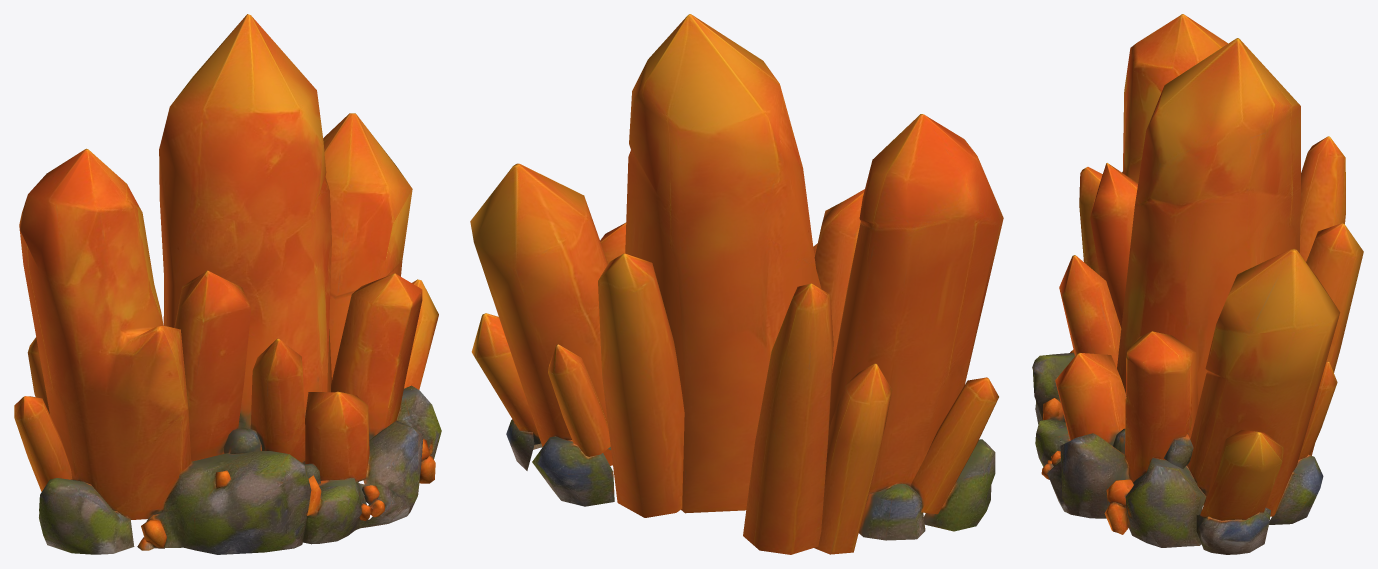
Rendered from orange_crystal.glb.
3 views of the same model, side by side, from view 1: azimuth 30°, elevation 25°; view 2: azimuth 150°, elevation 25°; view 3: azimuth 270°, elevation 25° (orthographic). The views are drawn at different scales.
Visible parts, largest first — view 1: tripo_node_8a0ff142-271c-4a10-8316-48bf7cc18a92; view 2: tripo_node_8a0ff142-271c-4a10-8316-48bf7cc18a92; view 3: tripo_node_8a0ff142-271c-4a10-8316-48bf7cc18a92.
Boxes of the visible parts, x1,y1,x2,y2 form: tripo_node_8a0ff142-271c-4a10-8316-48bf7cc18a92: (14, 14, 441, 554); tripo_node_8a0ff142-271c-4a10-8316-48bf7cc18a92: (470, 14, 1003, 554); tripo_node_8a0ff142-271c-4a10-8316-48bf7cc18a92: (1032, 14, 1363, 554).
Size of the model in its own units: 0.9995 by 0.9595 by 0.6528.
1 material, 1 textured.
